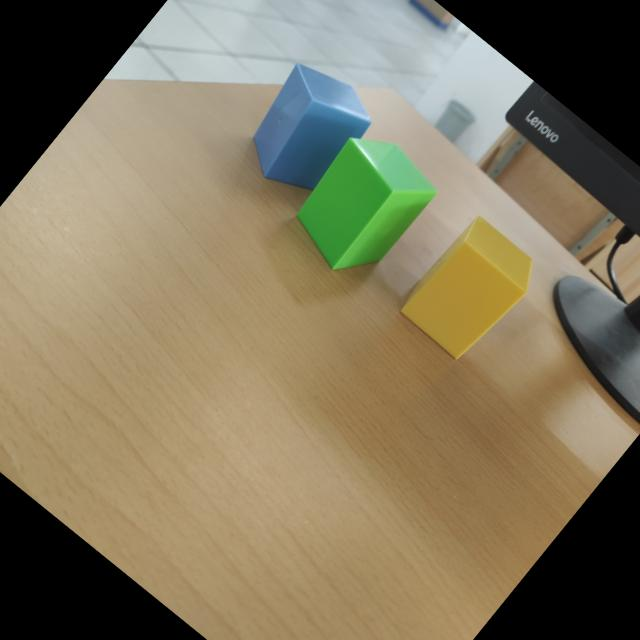blue: (252, 64, 371, 192)
green: (295, 139, 435, 272)
yellow: (399, 218, 531, 360)
